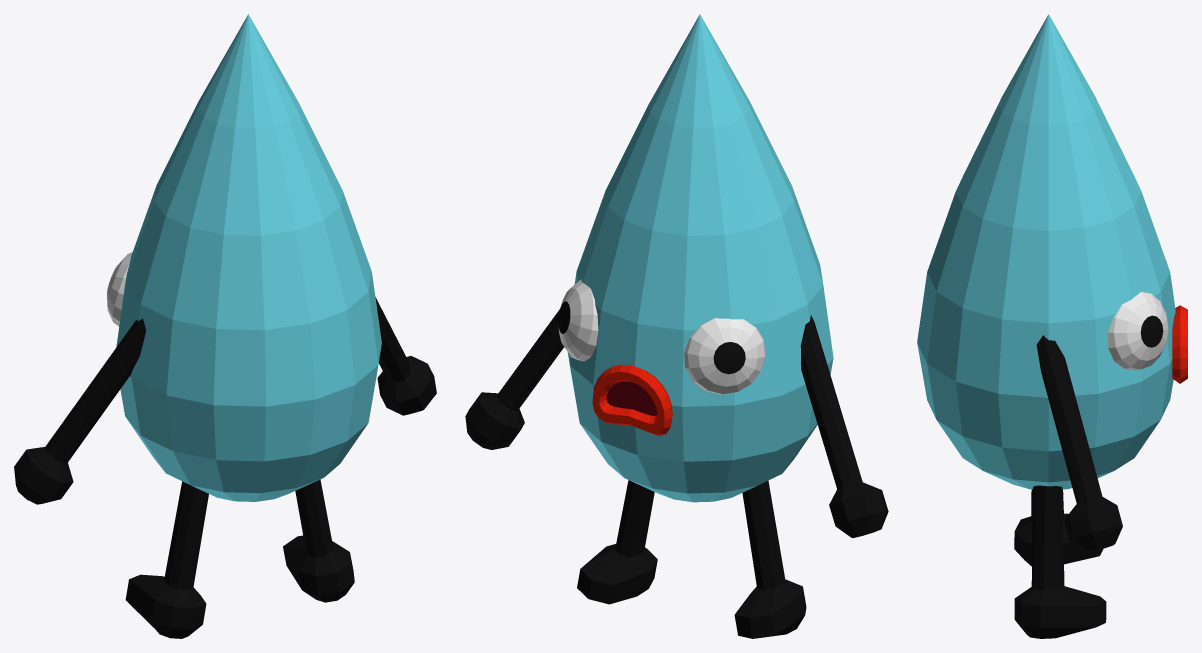
The model's file is SteveIdle.fbx.
3 renders of one model, left to right at view 1: azimuth 30°, elevation 25°; view 2: azimuth 150°, elevation 25°; view 3: azimuth 270°, elevation 25°, orthographic. The views are drawn at different scales.
Parts seen in each view (by area): view 1: Steven; view 2: Steven; view 3: Steven.
Boxes of the visible parts, x1,y1,x2,y2 form: Steven: (14,14,436,638); Steven: (465,14,888,638); Steven: (917,14,1187,638).
Bounding box in the file's own units: 357 × 492 × 206.
